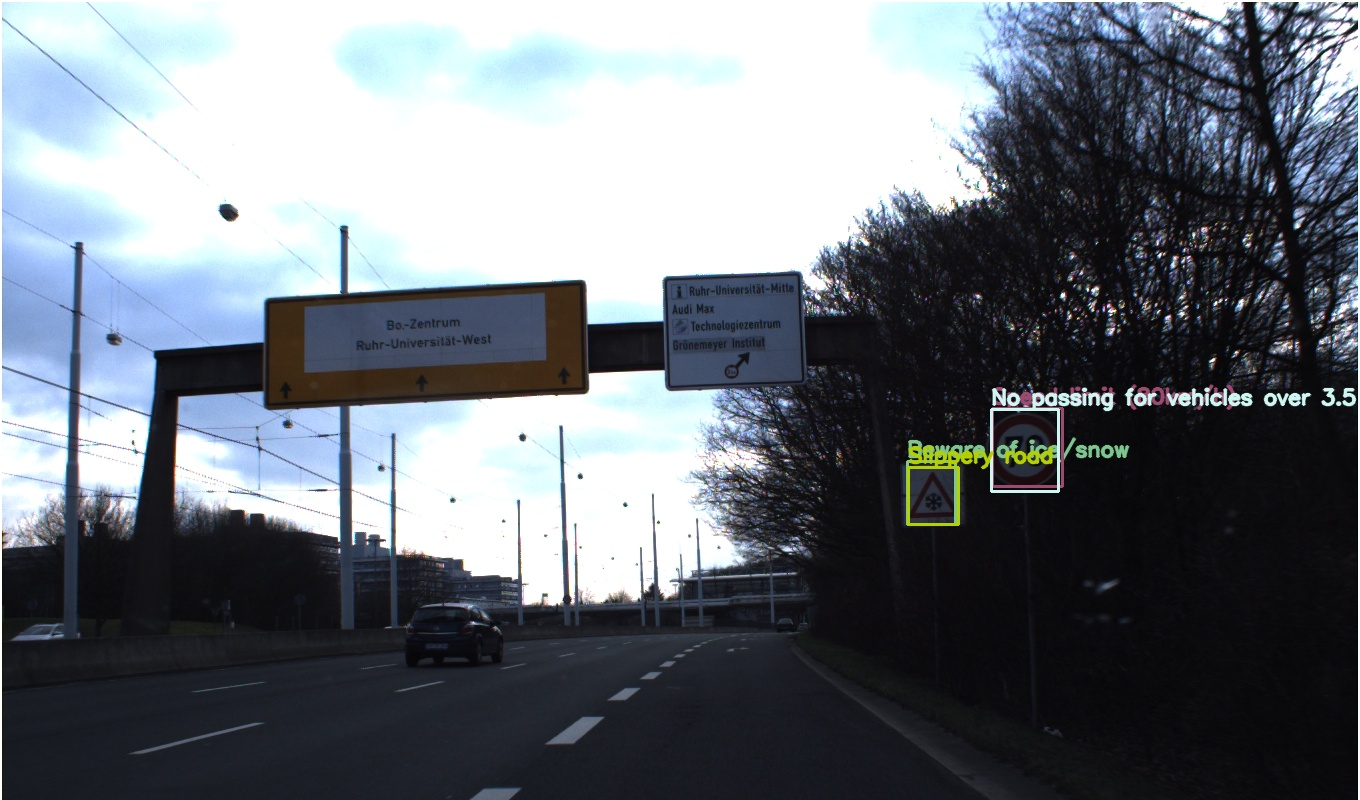Right-of-way at the next intersection: (693, 406, 728, 439)
